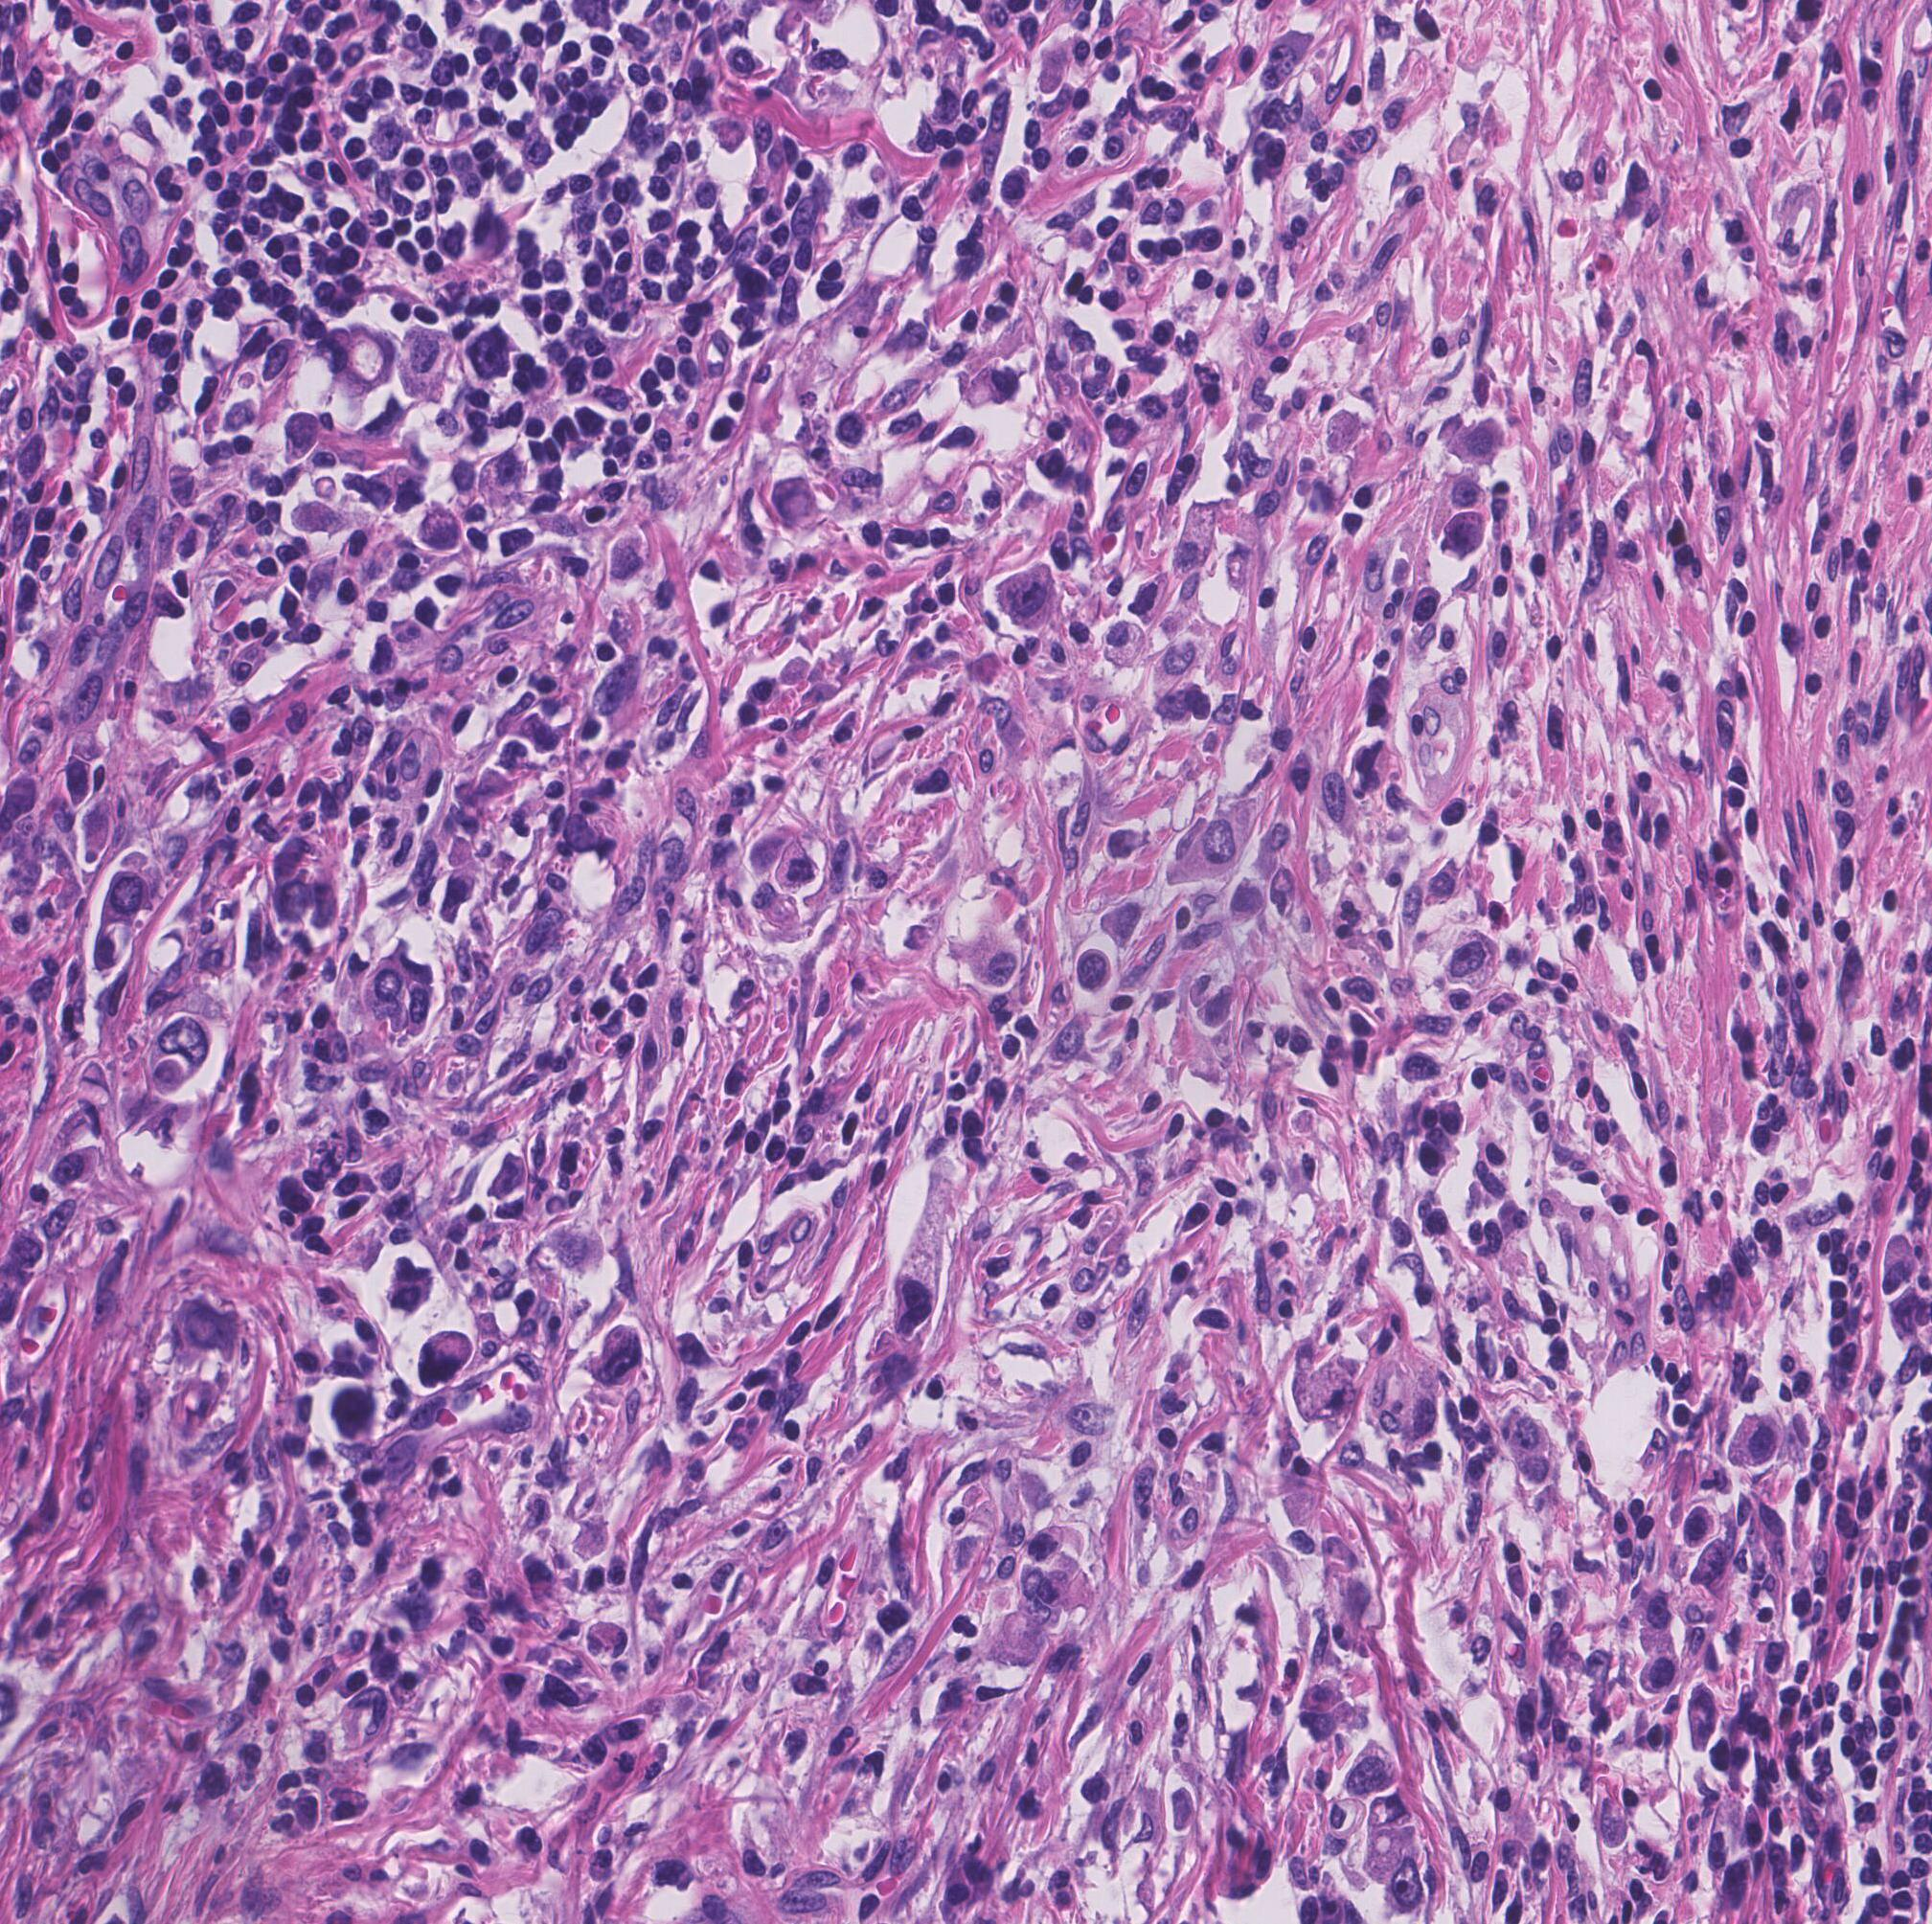ring_cell_cancer: (1156, 800, 1260, 883), (146, 1015, 213, 1101), (1366, 1364, 1438, 1443), (994, 555, 1065, 634), (1363, 1795, 1426, 1880), (1290, 1350, 1363, 1424), (398, 326, 460, 405), (365, 943, 416, 1031), (476, 446, 532, 516), (1442, 929, 1504, 988), (418, 1327, 474, 1392), (1345, 1743, 1405, 1797), (769, 476, 825, 532), (1729, 1411, 1784, 1469), (99, 870, 153, 929), (776, 832, 821, 897), (961, 365, 1026, 411), (462, 328, 518, 381), (1445, 419, 1507, 467), (1876, 1237, 1921, 1293), (608, 530, 652, 588), (1437, 511, 1488, 560), (1102, 899, 1149, 951), (1102, 620, 1155, 668), (416, 504, 465, 553), (1070, 944, 1114, 995), (585, 1619, 633, 1661), (1437, 476, 1493, 511), (1230, 877, 1267, 921)
